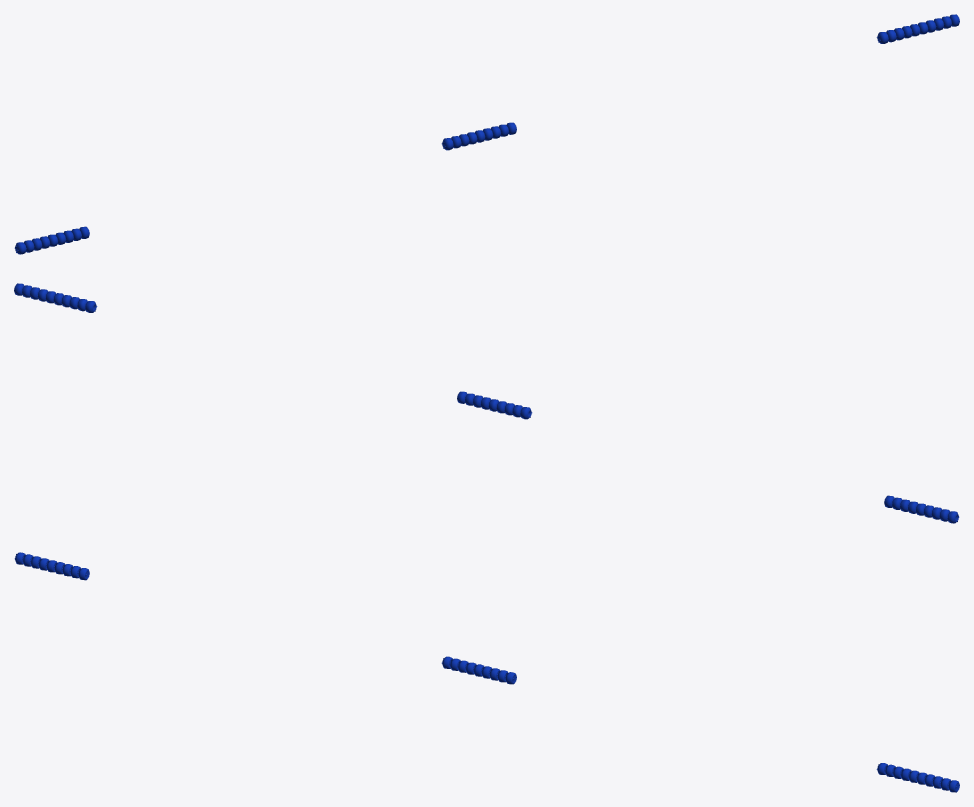
File: LaneRope_75ft_LOD1_Tricolor_Cycle_sec4.obj
The picture shows the model from 3 angles, top to bottom: view 1: azimuth 30°, elevation 25°; view 2: azimuth 150°, elevation 25°; view 3: azimuth 330°, elevation 25°; orthographic projection.
Visible parts, largest first — view 1: section_17_sec4, section_11_sec4, section_05_sec4; view 2: section_17_sec4, section_11_sec4, section_05_sec4; view 3: section_17_sec4, section_11_sec4, section_05_sec4.
Part boxes in pixels (bbox=[...]): section_17_sec4: bbox=[876, 14, 959, 43]; section_11_sec4: bbox=[441, 122, 516, 150]; section_05_sec4: bbox=[14, 226, 89, 254]; section_17_sec4: bbox=[14, 283, 97, 312]; section_11_sec4: bbox=[457, 391, 532, 419]; section_05_sec4: bbox=[884, 495, 959, 523]; section_17_sec4: bbox=[876, 763, 959, 792]; section_11_sec4: bbox=[441, 656, 516, 684]; section_05_sec4: bbox=[14, 552, 89, 580].
Bounding box in the file's own units: 10.07 × 0.1206 × 0.1206.
